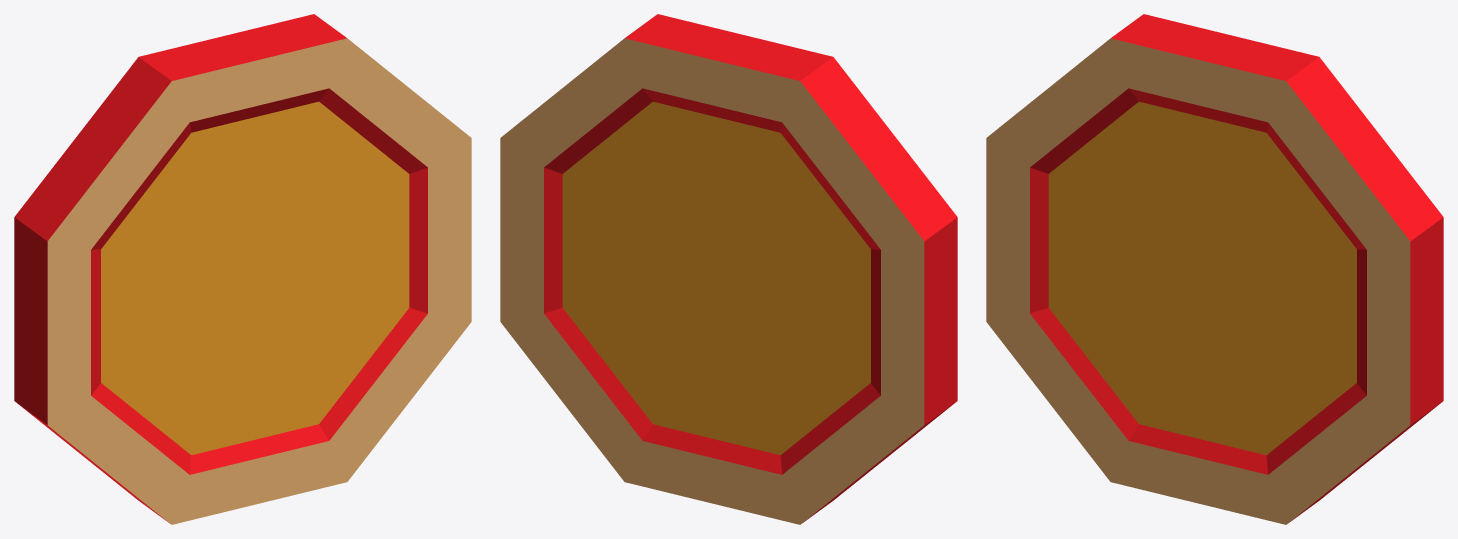
Rendered from LOWPOLTCOIN.fbx.
3 renders of one model, left to right at view 1: azimuth 30°, elevation 25°; view 2: azimuth 150°, elevation 25°; view 3: azimuth 330°, elevation 25°, orthographic.
Parts seen in each view (by area): view 1: Circle; view 2: Circle; view 3: Circle.
Boxes of the visible parts, bbox=[...] form: Circle: bbox=[14, 14, 471, 524]; Circle: bbox=[500, 14, 957, 524]; Circle: bbox=[986, 14, 1443, 524].
Bounding box in the file's own units: 185 × 185 × 25.05.
